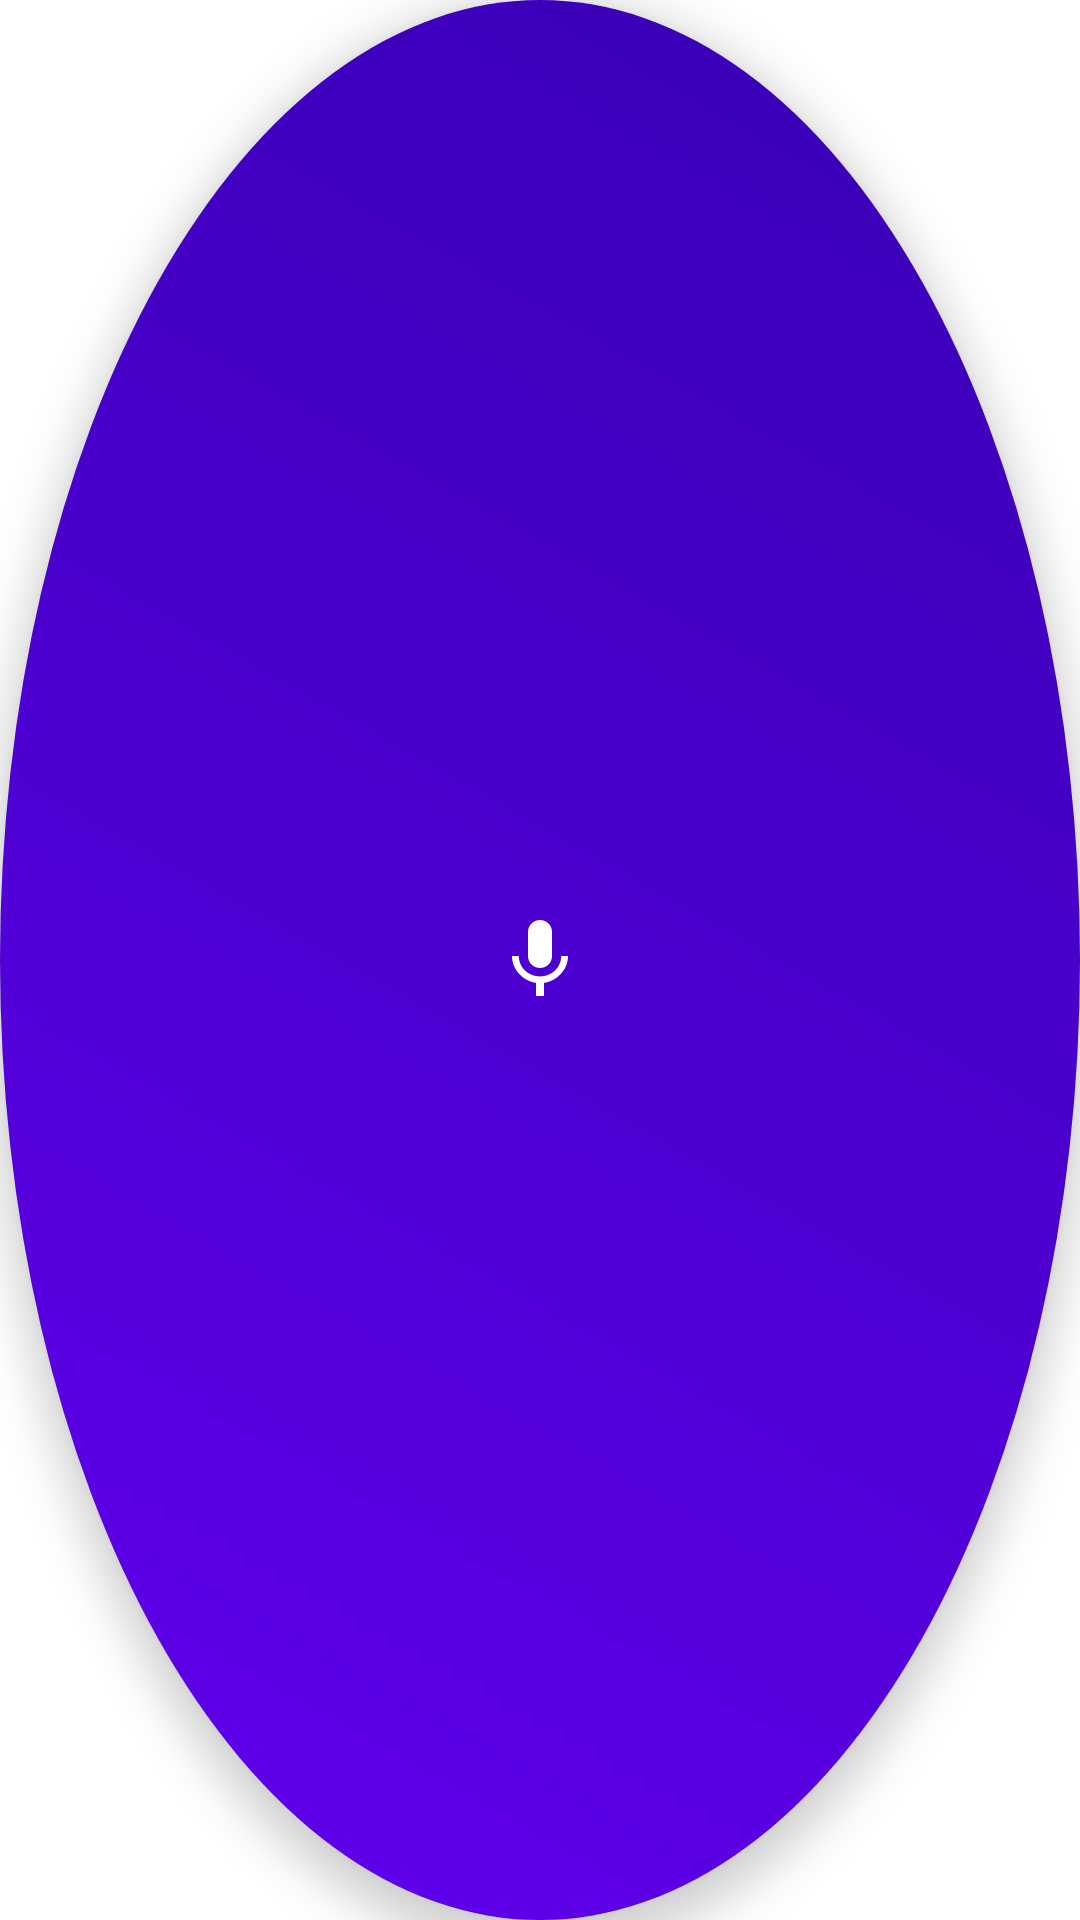

Screen size 1080w x 1920h. Icon name, then its box in pixels as (x1, y1, x2, y2):
Switch Microphone: (512, 920, 568, 996)
